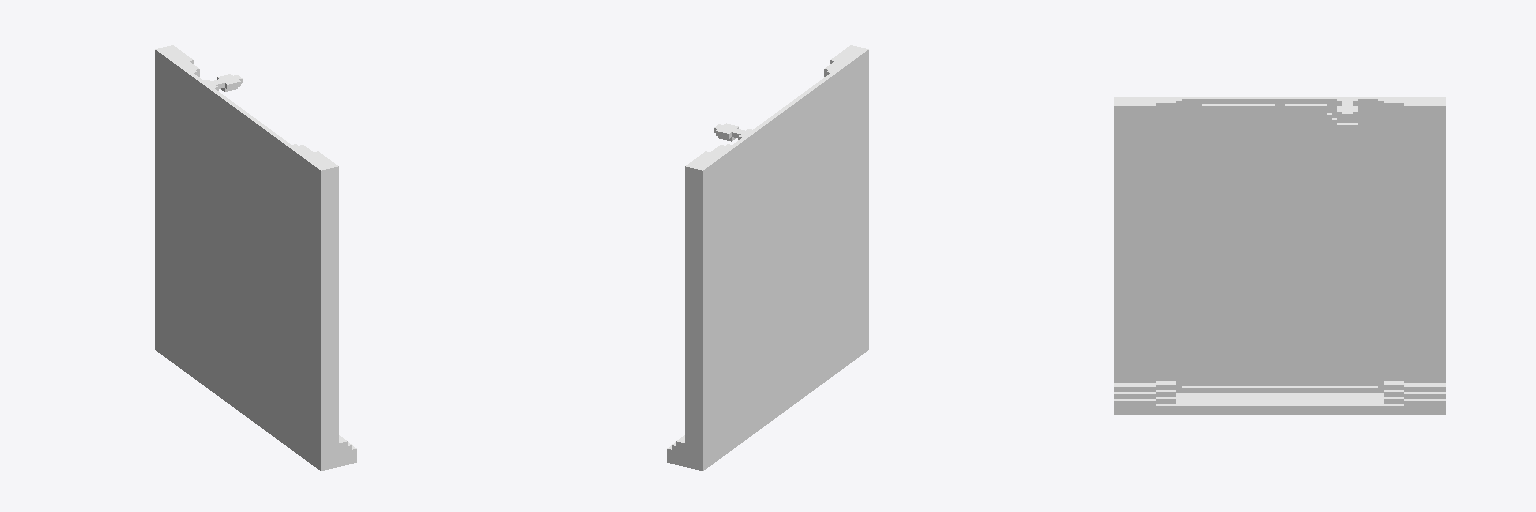
The model's file is old_brick_peach_door_b.obj.
3 renders of one model, left to right at view 1: azimuth 30°, elevation 25°; view 2: azimuth 150°, elevation 25°; view 3: azimuth 270°, elevation 25°, orthographic.
Bounding box in the file's own units: 8 × 64 × 64.